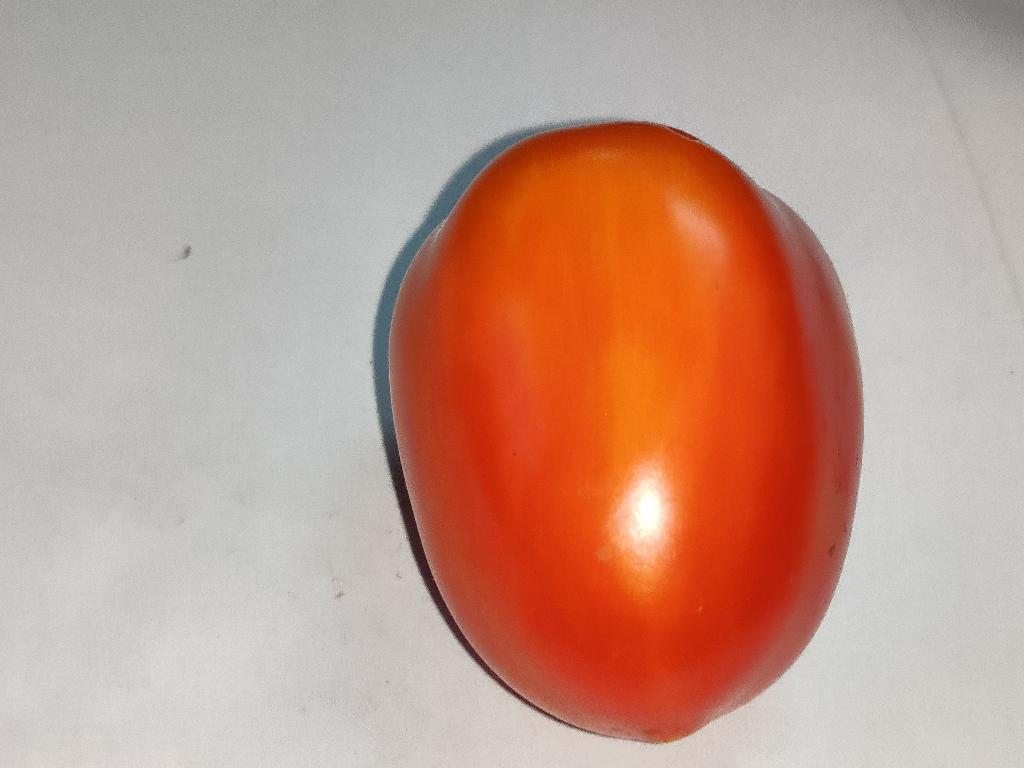tomato: (390, 123, 862, 740)
